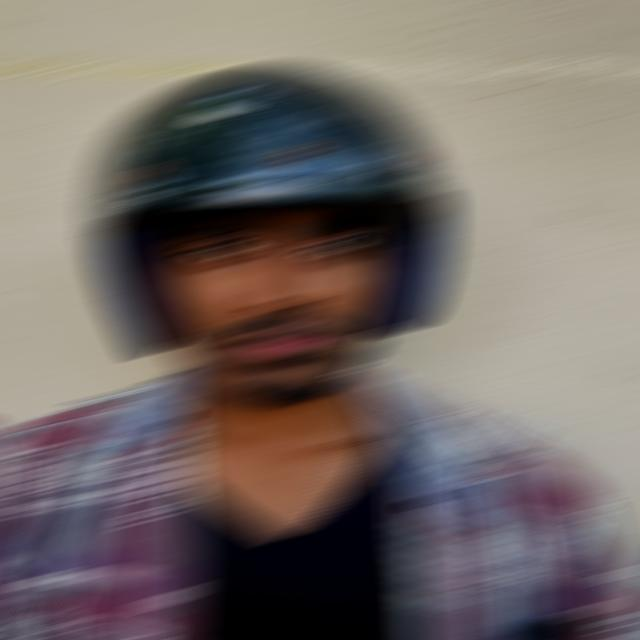With Helmet: (84, 64, 450, 358)
